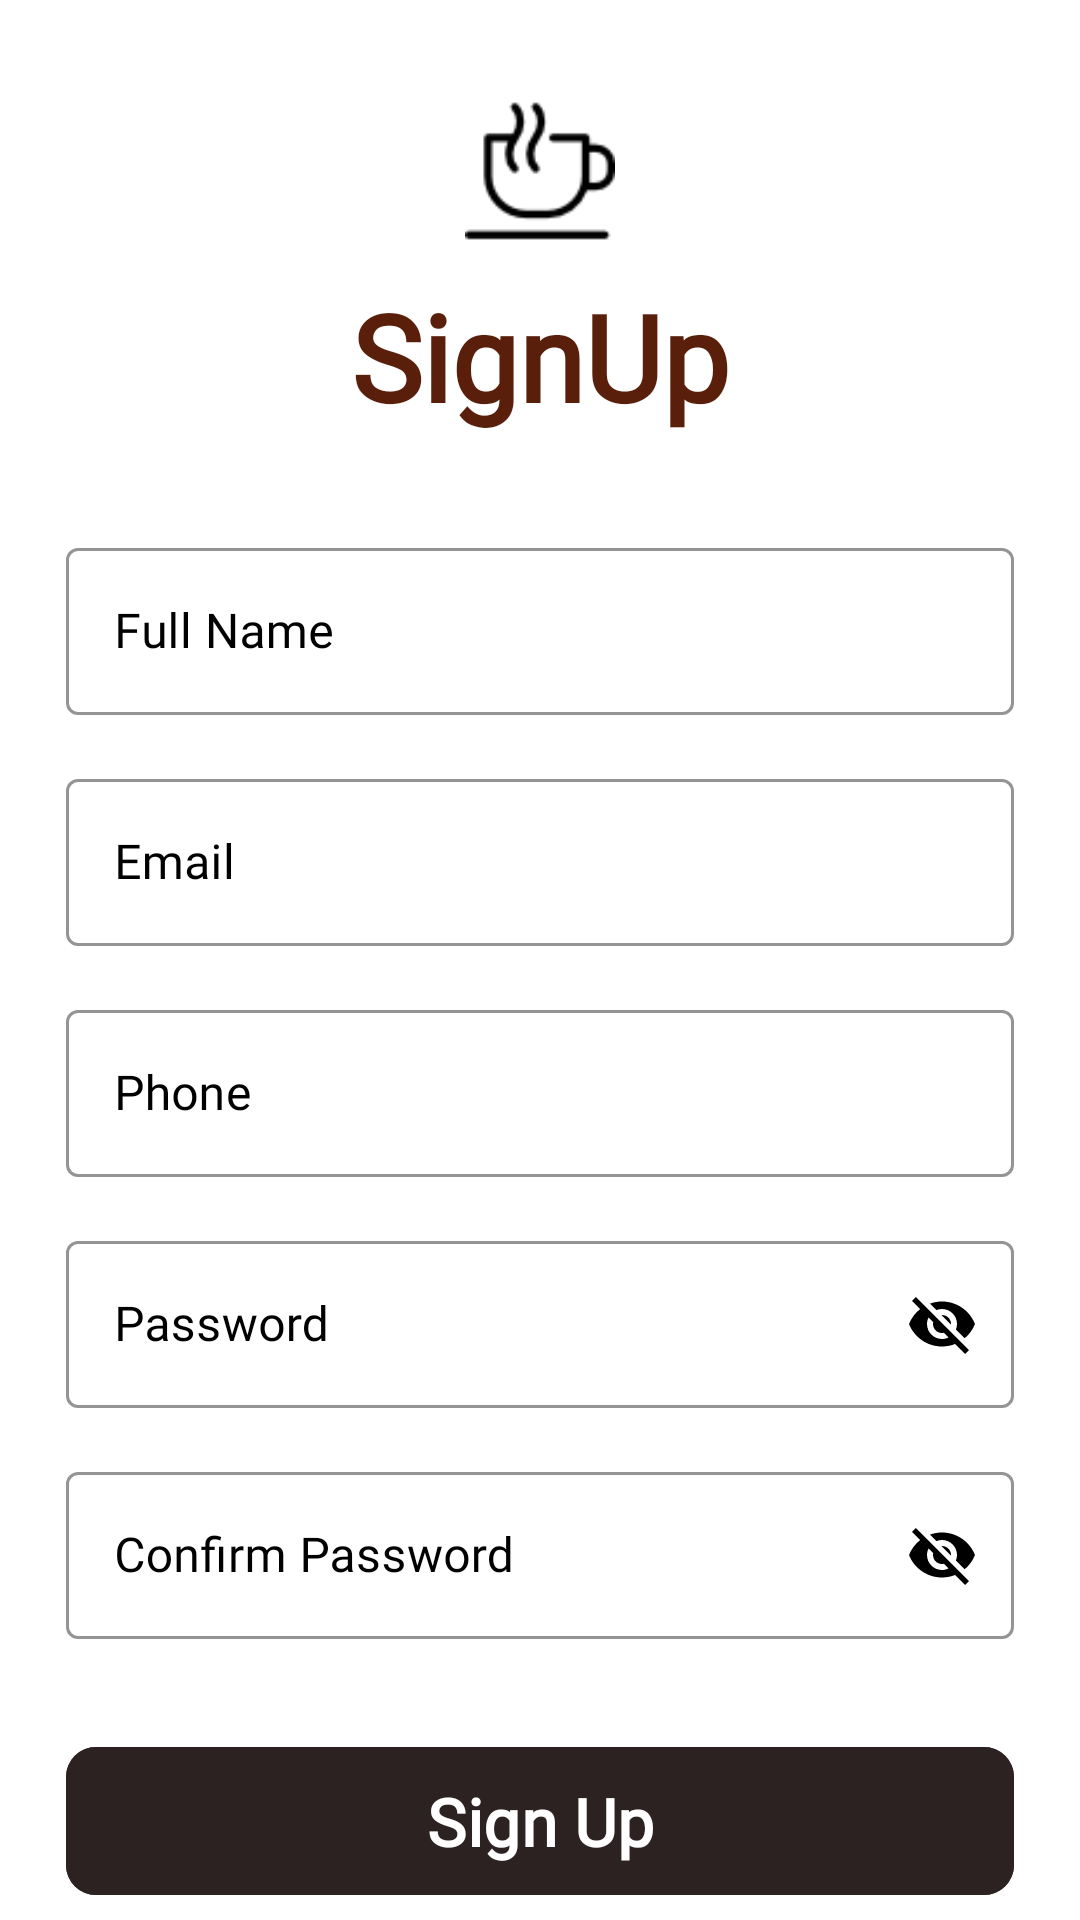

Icon bounding boxes for this 1080w x 1920h phone screenshot, format (x1, y1, x2, y2):
hotcoffee: (465, 102, 615, 240)
